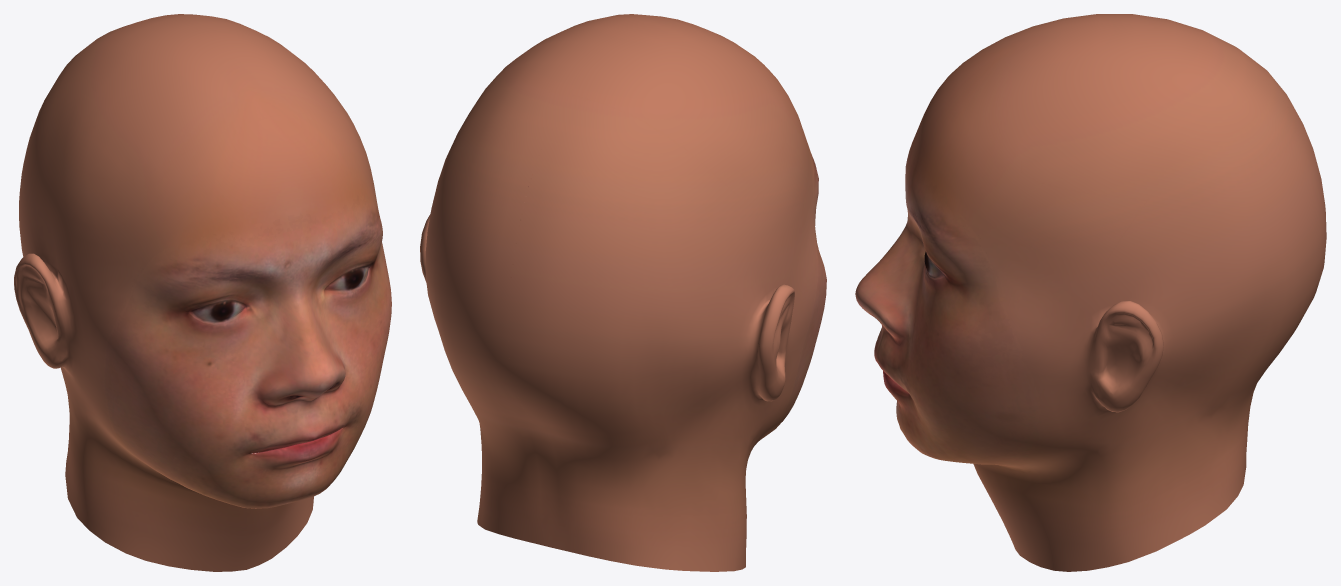
3 renders of one model, left to right at view 1: azimuth 30°, elevation 25°; view 2: azimuth 150°, elevation 25°; view 3: azimuth 270°, elevation 25°, orthographic. The views are drawn at different scales.
Visible parts, largest first — view 1: Surf0; view 2: Surf0; view 3: Surf0.
Part boxes in pixels (x1,y1,x2,y2): Surf0: [14, 14, 391, 571]; Surf0: [420, 14, 826, 571]; Surf0: [855, 14, 1326, 571].
Bounding box in the file's own units: 0.1944 × 0.2812 × 0.2333.
Materials: 1 (1 with a texture image).
